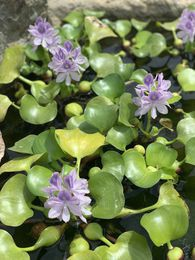water_hyacinth: (0, 14, 195, 260)
